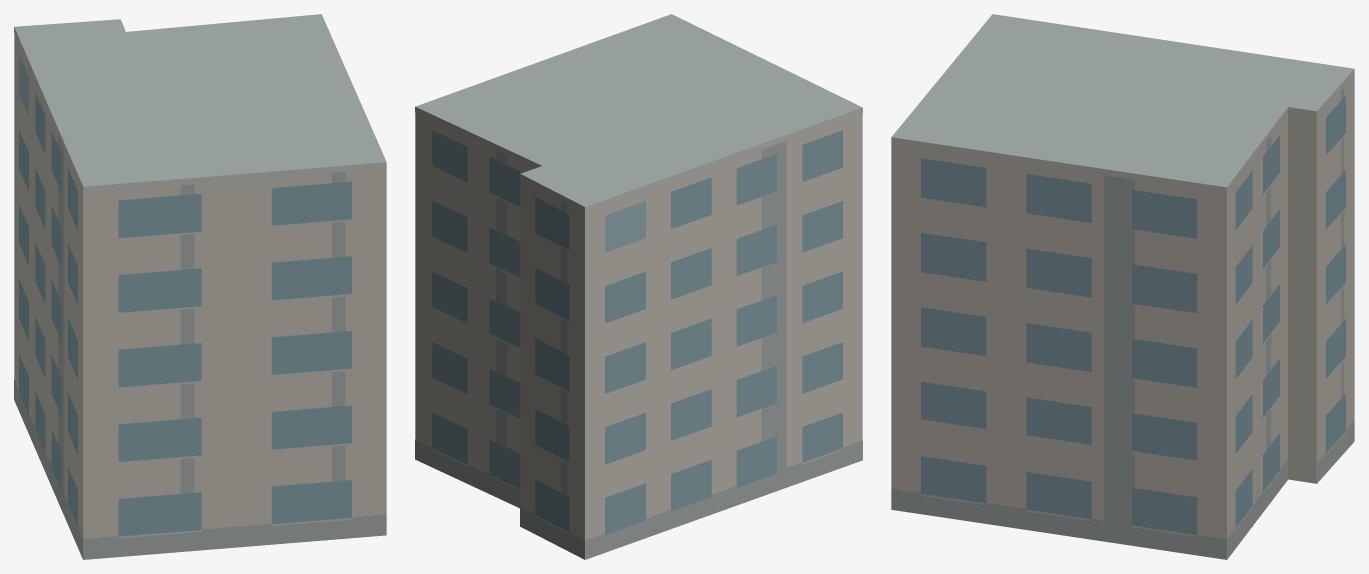
Rendered from survey-upis-32854244.glb.
3 views of the same model, side by side, from view 1: azimuth 30°, elevation 25°; view 2: azimuth 150°, elevation 25°; view 3: azimuth 270°, elevation 25° (orthographic). The views are drawn at different scales.
Visible parts, largest first — view 1: survey-upis-32854244.tmp; view 2: survey-upis-32854244.tmp; view 3: survey-upis-32854244.tmp.
Part boxes in pixels (x1,y1,x2,y2): survey-upis-32854244.tmp: [14, 14, 386, 559]; survey-upis-32854244.tmp: [415, 14, 862, 559]; survey-upis-32854244.tmp: [891, 14, 1354, 559].
Size of the model in its own units: 14.19 by 14.2 by 16.02.
